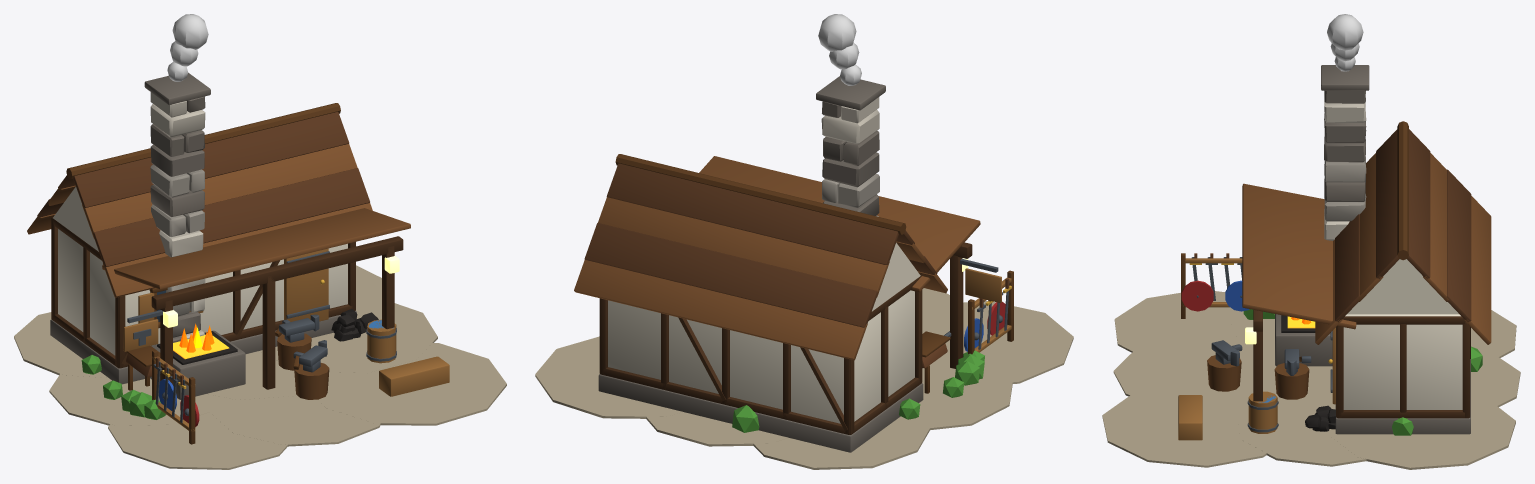
The model's file is kuznia_poz10.glb.
3 renders of one model, left to right at view 1: azimuth 30°, elevation 25°; view 2: azimuth 150°, elevation 25°; view 3: azimuth 270°, elevation 25°, orthographic. The views are drawn at different scales.
Parts seen in each view (by area): view 1: kuznia_poz10; view 2: kuznia_poz10; view 3: kuznia_poz10.
Boxes of the visible parts, left/top/right/bottom form: kuznia_poz10: left=14, top=14, right=506, bottom=469; kuznia_poz10: left=535, top=14, right=1073, bottom=469; kuznia_poz10: left=1102, top=14, right=1520, bottom=469.
Bounding box in the file's own units: 8.78 × 7.96 × 8.65.
